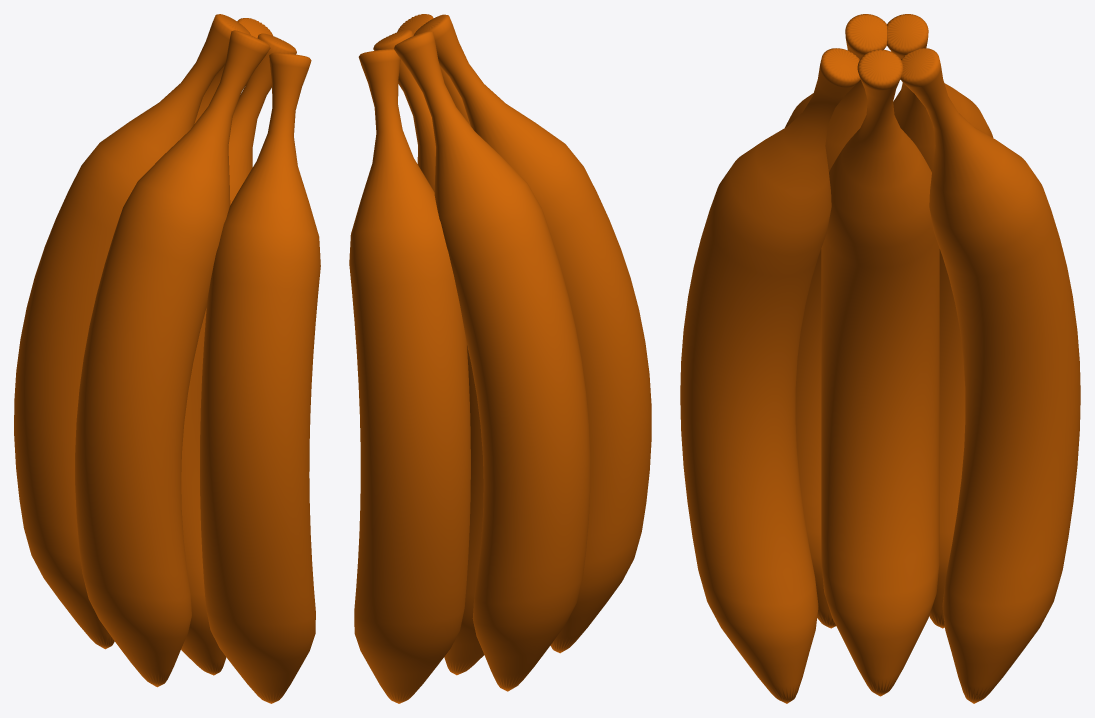
Rendered from BananaGroup.obj.
3 views of the same model, side by side, from view 1: azimuth 30°, elevation 25°; view 2: azimuth 150°, elevation 25°; view 3: azimuth 270°, elevation 25° (orthographic). The views are drawn at different scales.
Visible parts, largest first — view 1: Banana.001_Cylinder.005; view 2: Banana.001_Cylinder.005; view 3: Banana.001_Cylinder.005.
Part boxes in pixels (x1=…): Banana.001_Cylinder.005: x1=14, y1=14, x2=320, y2=703; Banana.001_Cylinder.005: x1=349, y1=14, x2=651, y2=703; Banana.001_Cylinder.005: x1=680, y1=14, x2=1080, y2=703.
Size of the model in its own units: 3.44 by 8.86 by 4.65.
